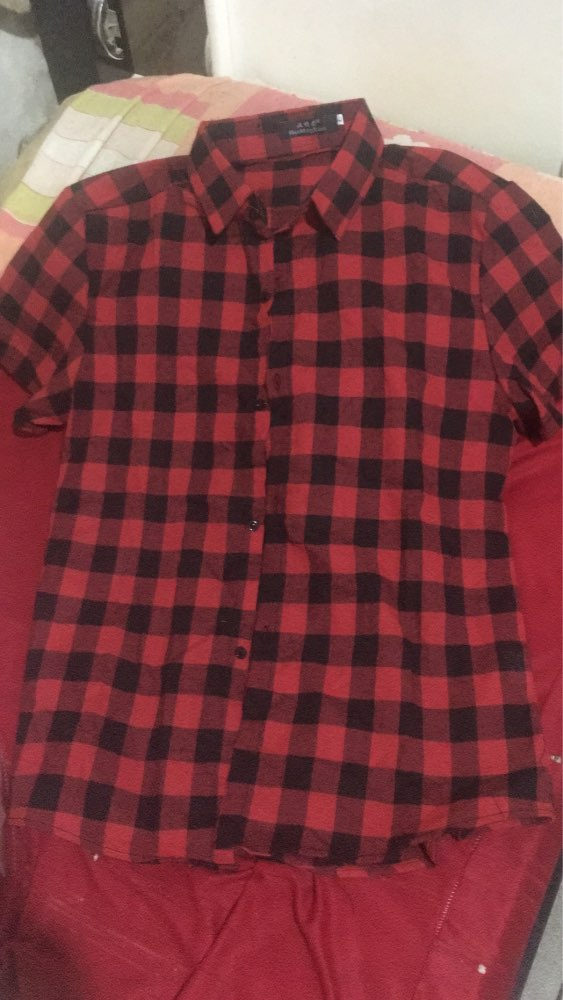shirts: (23, 95, 563, 858)
